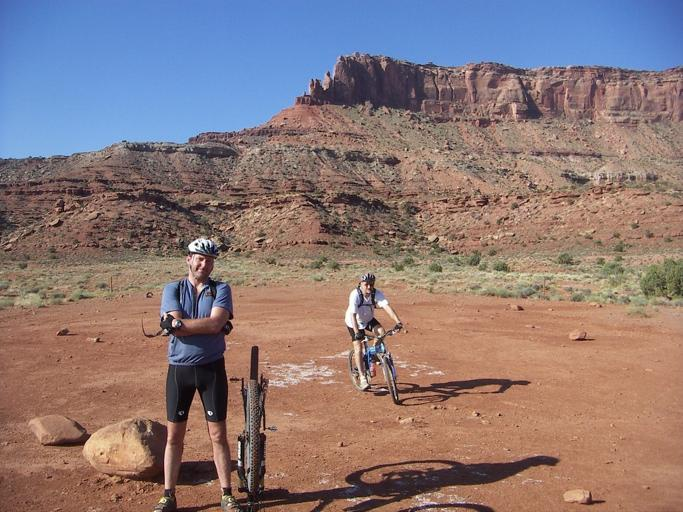non-vehicle: (229, 343, 271, 507), (346, 319, 407, 406)
